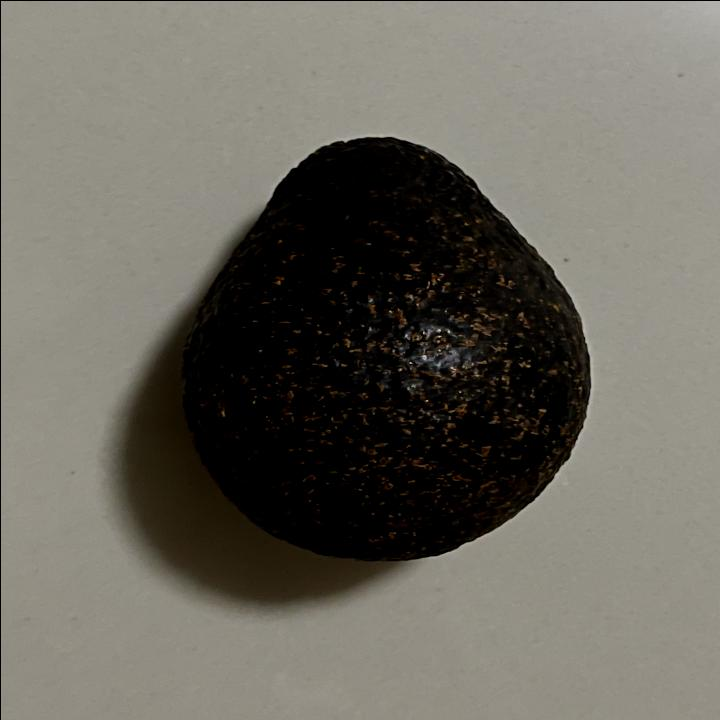Level3: (166, 125, 600, 570)
